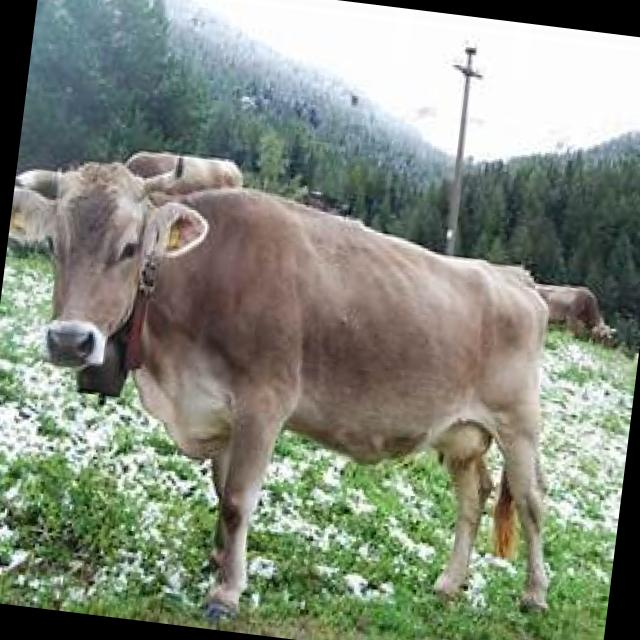cow: (0, 117, 611, 640)
